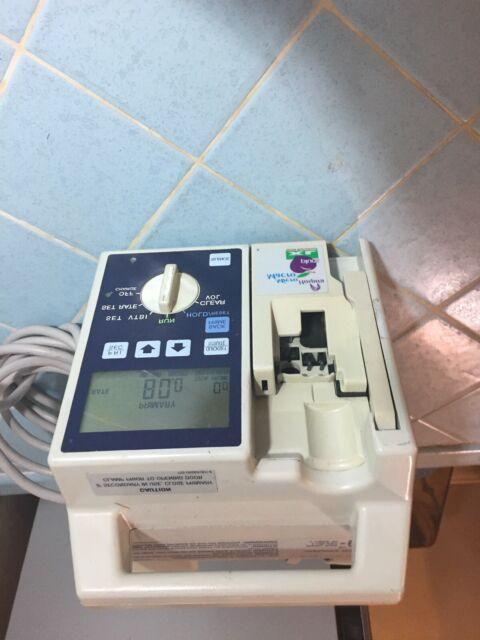plumxl1: (47, 242, 417, 608)
